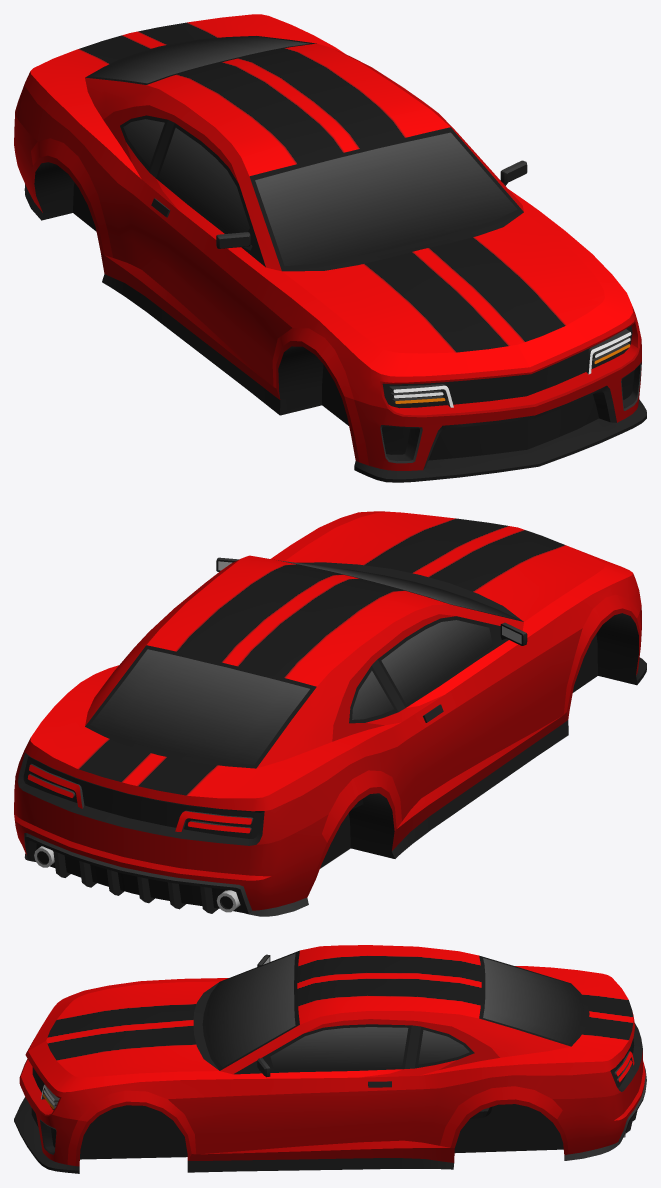
Rendered from RedCar.fbx.
3 views of the same model, one above another, from view 1: azimuth 30°, elevation 25°; view 2: azimuth 150°, elevation 25°; view 3: azimuth 270°, elevation 25° (orthographic). The views are drawn at different scales.
Parts seen in each view (by area): view 1: Body; view 2: Body; view 3: Body.
Boxes of the visible parts, x1,y1,x2,y2 form: Body: [14, 14, 646, 482]; Body: [14, 511, 646, 916]; Body: [14, 945, 646, 1173].
Bounding box in the file's own units: 350 × 209 × 819.
Materials: 3 (3 with a texture image).
